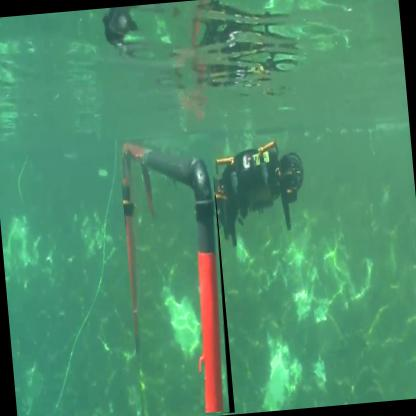gate: (119, 134, 238, 416)
